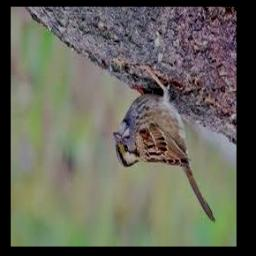Sparrow: (114, 65, 216, 222)
